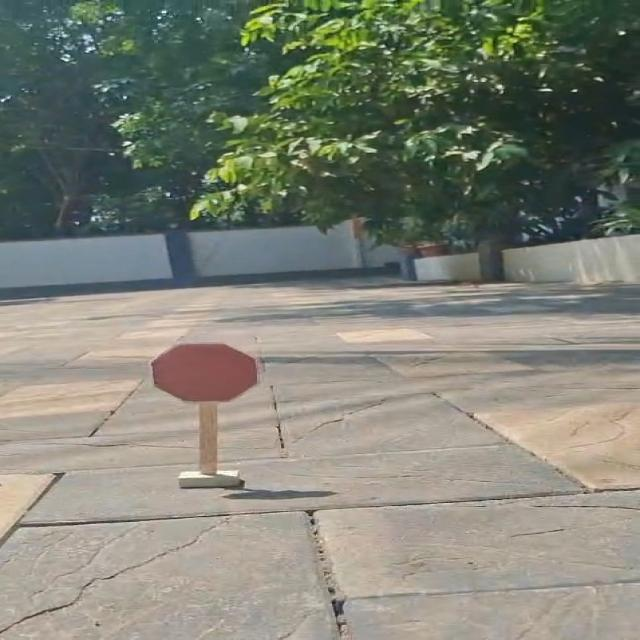Stop: (136, 328, 275, 407)
